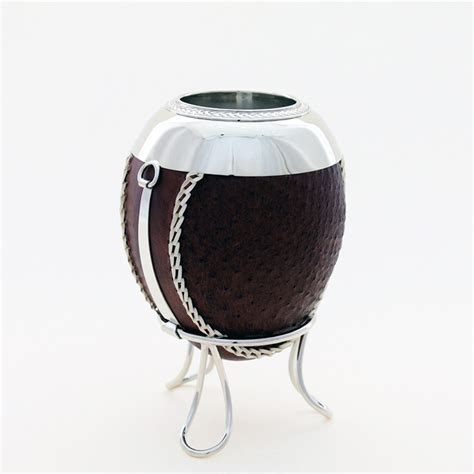cuero: (120, 154, 347, 359)
